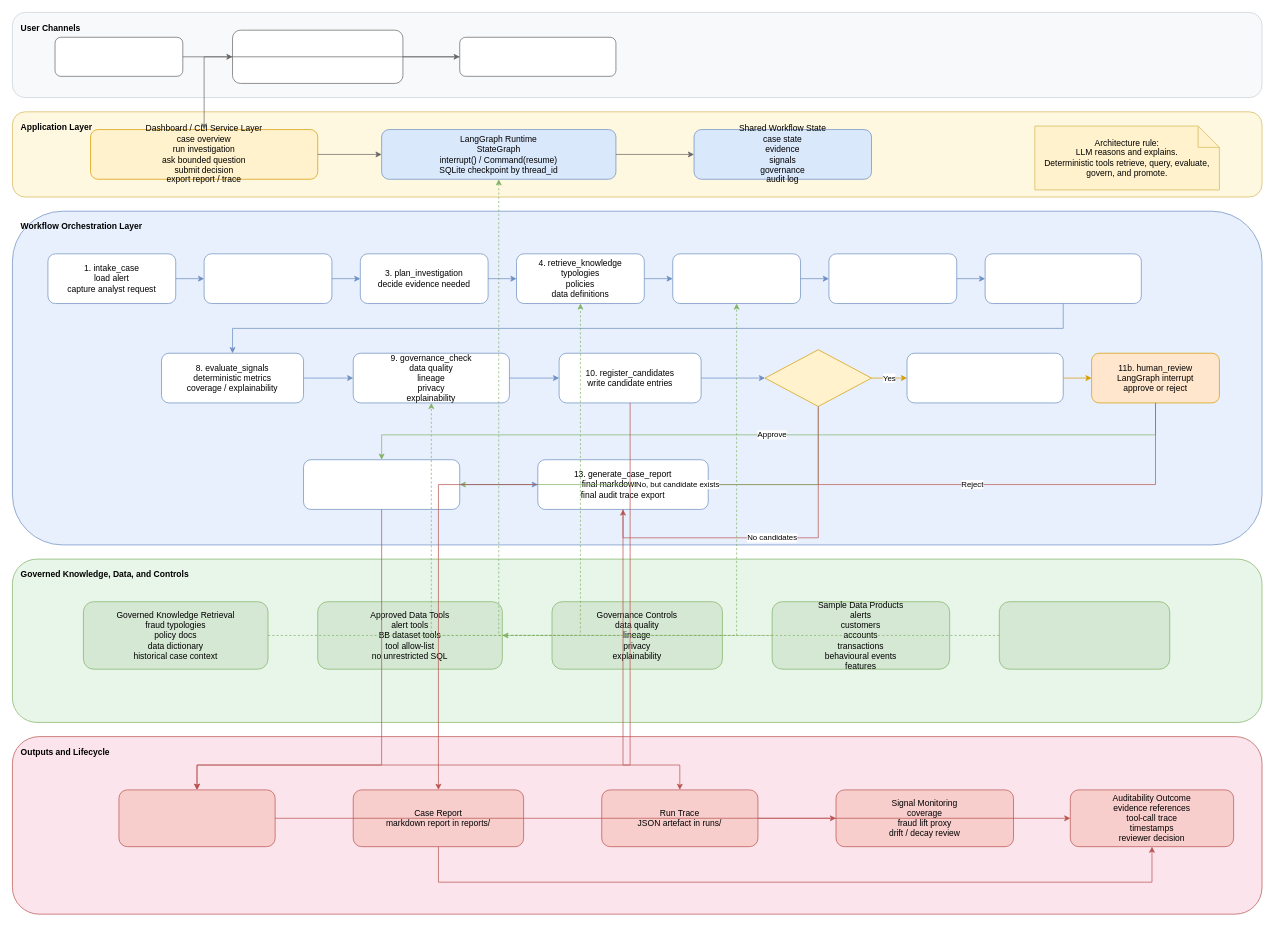
The diagram is 1274 pixels wide and 927 high, and some of its shapes have lost their labels. The centre of each missing label's shape, as x and y in pixels:
"11a. prepare_human_review draft report review request payload" belongs at point (984, 378).
"12. promote_signal approved signal moves to registry" belongs at point (381, 484).
"2. classify_case_type case type risk level" belongs at point (267, 278).
"5. query_case_data approved data tools only" belongs at point (736, 278).
"6. summarise_evidence grounded evidence narrative" belongs at point (892, 278).
"7. generate_signal_hypotheses candidate fraud signals" belongs at point (1062, 278).
"Business Analyst Fraud Reviewer" belongs at point (118, 56).
"Case Queue Load Existing Run Approve / Reject Signal" belongs at point (317, 56).
"Checkpoint and State Store SQLite thread_id-based persistence" belongs at point (1084, 635).
"Human review required?" belongs at point (818, 377).
"Signal Registry candidate approved rejected" belongs at point (196, 818).
"Streamlit Dashboard or CLI Entry Point" belongs at point (537, 56).
